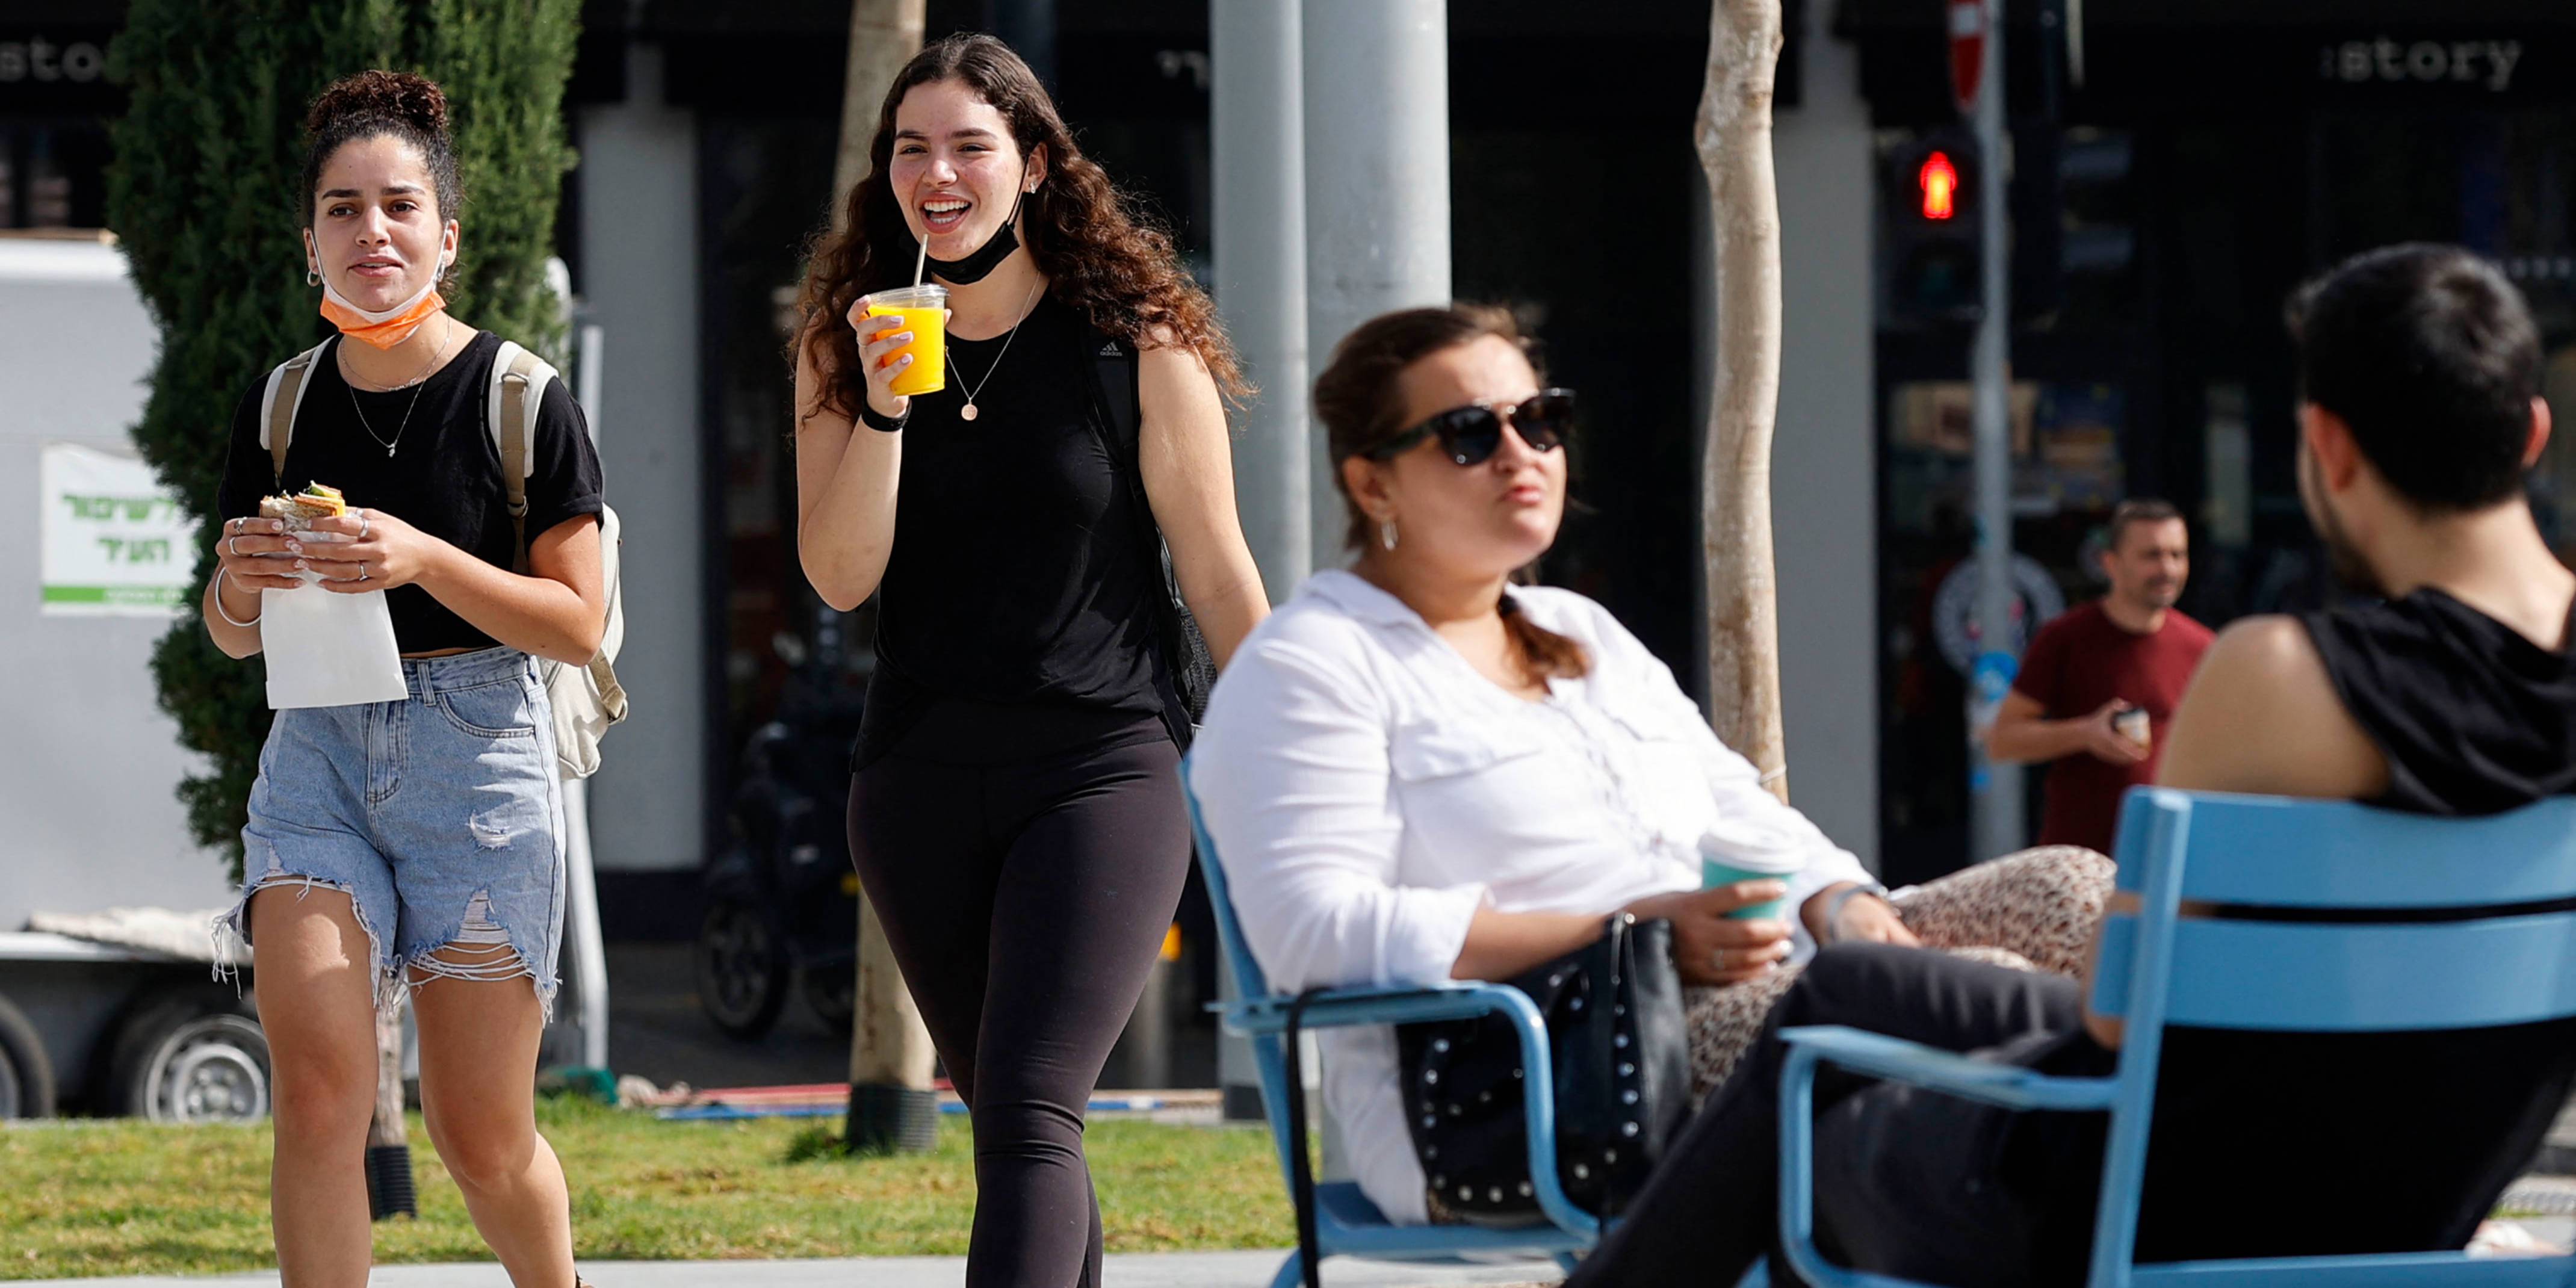with_incorrect_mask: (309, 157, 446, 332), (895, 109, 1015, 274)
without_mask: (1381, 364, 1561, 553), (2123, 532, 2183, 599)
